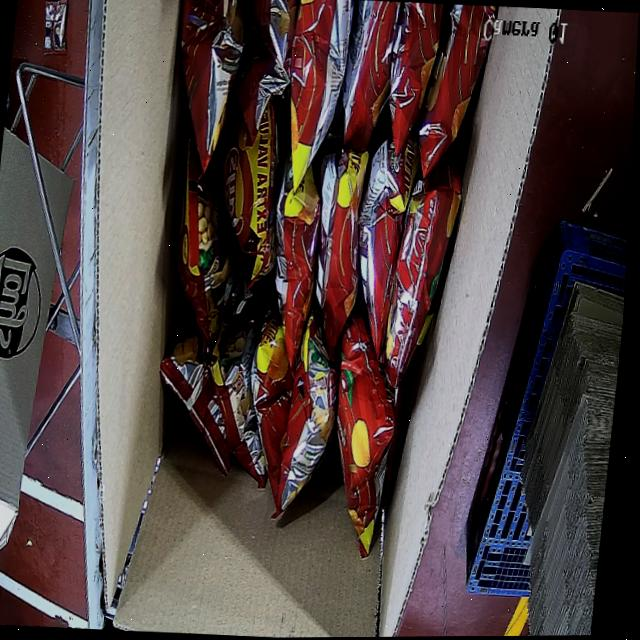MASALA: (121, 0, 496, 563)
